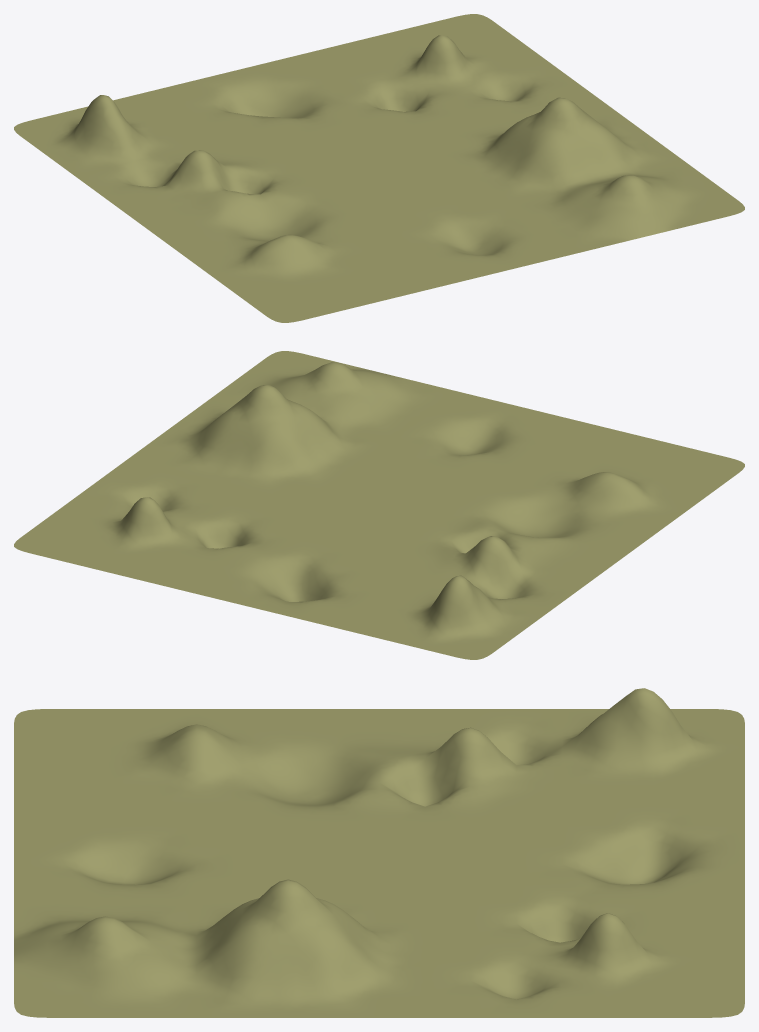
Rendered from Ground.fbx.
The picture shows the model from 3 angles, top to bottom: view 1: azimuth 30°, elevation 25°; view 2: azimuth 150°, elevation 25°; view 3: azimuth 270°, elevation 25°; orthographic projection. The views are drawn at different scales.
Parts seen in each view (by area): view 1: pPlane1; view 2: pPlane1; view 3: pPlane1.
Boxes of the visible parts, x1,y1,x2,y2 form: pPlane1: [14, 14, 744, 322]; pPlane1: [14, 351, 744, 659]; pPlane1: [14, 688, 744, 1017].
Size of the model in its own units: 100 by 16.65 by 100.
